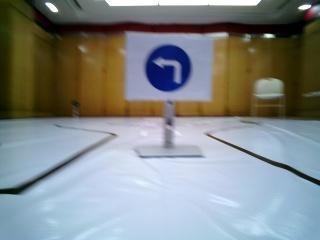left: (132, 37, 200, 95)
